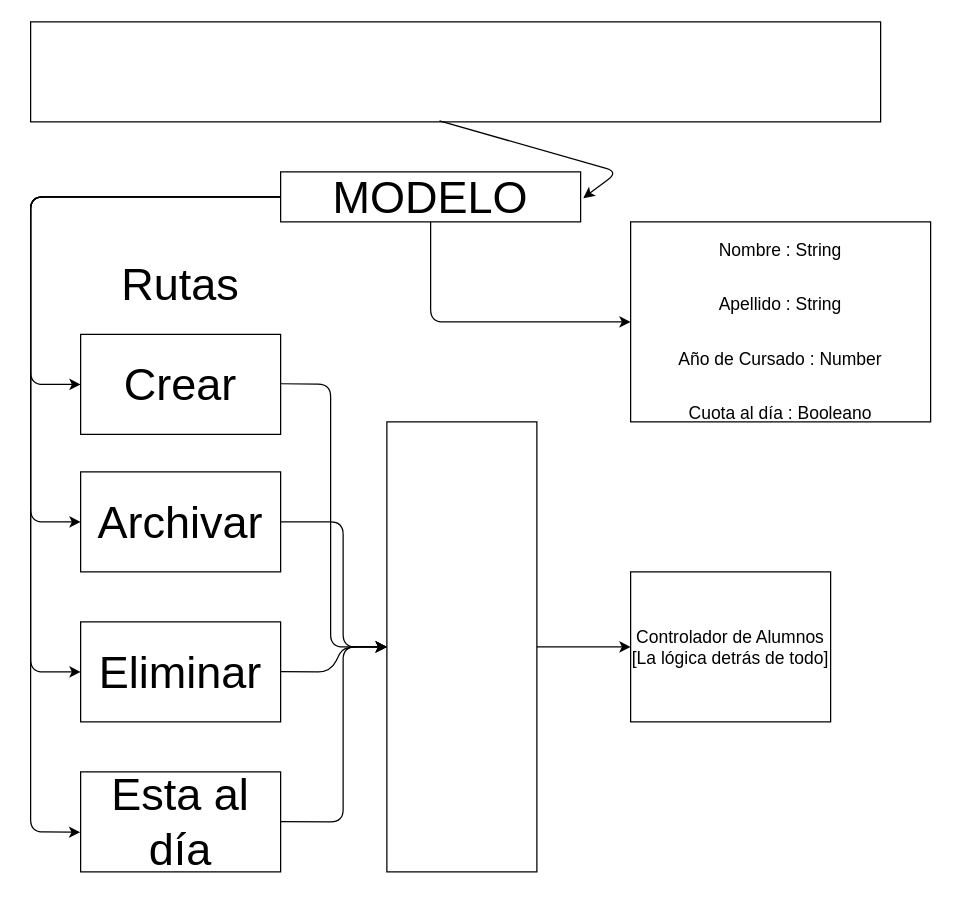
Image size: 953x898. Some labels were removed from this diagram. The shapes that lost their labels are listed below. From the top down, each one's centre as x and y in pixels, then its label:
At (x=455, y=71): "Alumnos".
At (x=461, y=646): "Middlewar de Alumnos [Verificaciones]".
